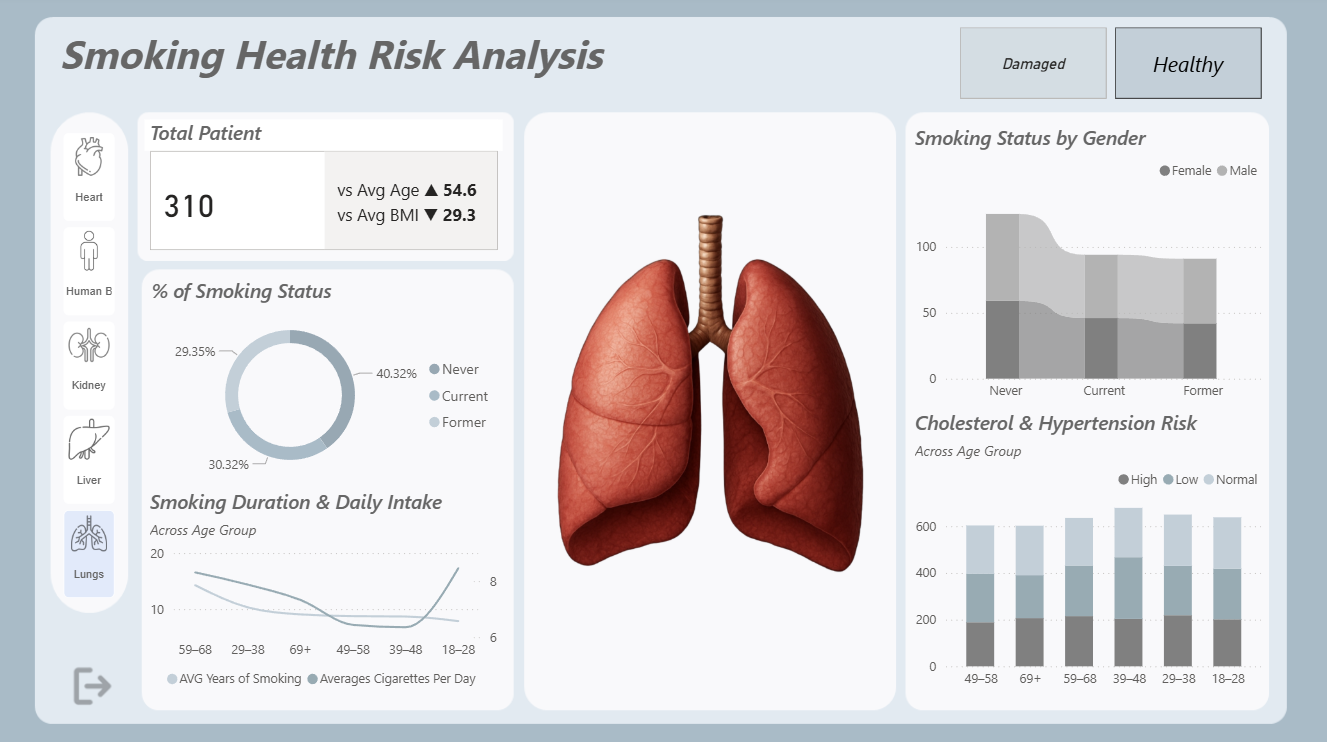

What the dashboard file says about the page in this screenshot:
{"tool":"powerbi","page":{"name":"Page 1","canvas":[1280,720],"ordinal":0},"visuals":[{"type":"advancedSlicerVisual","fields":{"Values":["condition.Organ_Condition"]},"box":[918.6,25.7,298.6,78.6],"z":0},{"type":"cardVisual","title":"Total Patient","fields":{"Data":["CountNonNull(health_dataset.Patient_ID)"]},"box":[145,118.8,342,130],"z":1000},{"type":"ChicletSlicer1448559807354","fields":{"Category":["Organs.Organ"],"Image":["Organs.Icon_URL"]},"box":[58.9,123.2,86.8,465.3],"z":2000},{"type":"image","box":[515,118.3,342,553.3],"z":3000},{"type":"donutChart","title":"% of Smoking Status","fields":{"Category":["health_dataset.Smoking_Status"],"Y":["CountNonNull(health_dataset.Smoking_Status)"]},"box":[145.7,270,341.4,200],"z":4000},{"type":"lineChart","title":"Smoking Duration & Daily Intake","fields":{"Category":["health_dataset.Age Group"],"Y":["Avg(health_dataset.Years_of_Smoking)"],"Y2":["Avg(health_dataset.Cigarettes_Per_Day)"]},"box":[144.3,471.4,341.4,200],"z":5000},{"type":"ribbonChart","title":"Smoking Status by Gender","fields":{"Category":["health_dataset.Smoking_Status"],"Y":["CountNonNull(health_dataset.Patient_ID)"],"Series":["health_dataset.Gender"]},"box":[875.7,122.9,341.4,272.9],"z":6000},{"type":"columnChart","title":"Cholesterol & Hypertension Risk","fields":{"Category":["health_dataset.Age Group"],"Y":["Avg(health_dataset.Cholesterol_Level)"],"Series":["health_dataset.BP_Risk"]},"box":[875.7,395.7,342,275.7],"z":7000},{"type":"textbox","box":[58.6,25.7,547.1,64.3],"z":7001}]}

Visuals, with their boxes in screenshot pixels (x1, y1, x2, y2), scaled from the page's 1280x720 canvas onto the 1327x742 screenshot:
advancedSlicerVisual - condition.Organ_Condition: bbox=[952, 26, 1262, 107]
"Total Patient" cardVisual: bbox=[150, 122, 505, 256]
ChicletSlicer1448559807354 - Organs.Organ x Organs.Icon_URL: bbox=[61, 127, 151, 606]
image: bbox=[534, 122, 888, 692]
"% of Smoking Status" donutChart: bbox=[151, 278, 505, 484]
"Smoking Duration & Daily Intake" lineChart: bbox=[150, 486, 504, 692]
"Smoking Status by Gender" ribbonChart: bbox=[908, 127, 1262, 408]
"Cholesterol & Hypertension Risk" columnChart: bbox=[908, 408, 1262, 692]
textbox: bbox=[61, 26, 628, 93]
